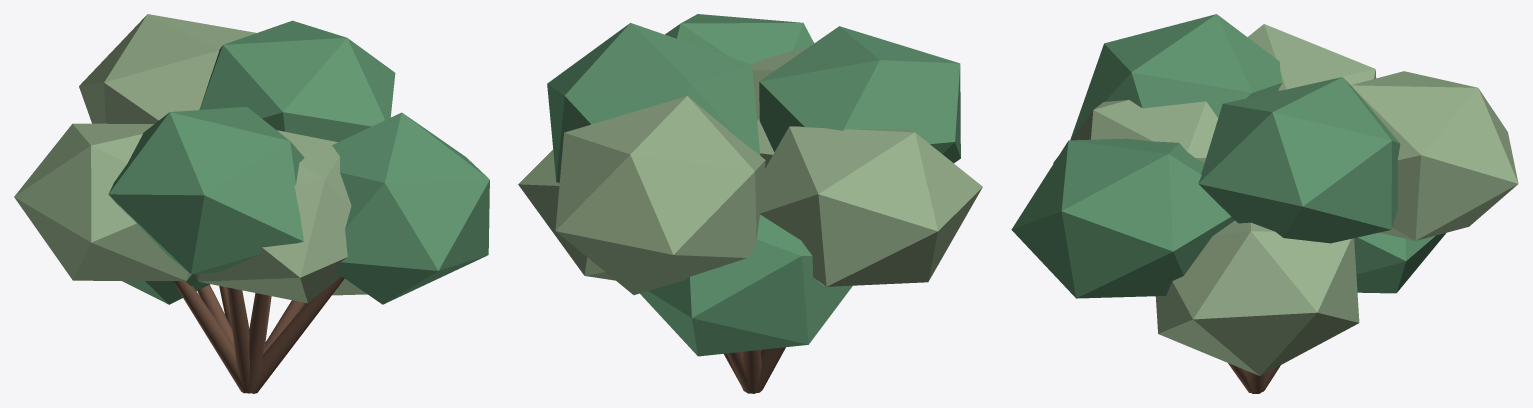
Rendered from berry-bush.glb.
The picture shows the model from 3 angles, left to right: view 1: azimuth 30°, elevation 25°; view 2: azimuth 150°, elevation 25°; view 3: azimuth 270°, elevation 25°; orthographic projection. The views are drawn at different scales.
Parts seen in each view (by area): view 1: Vesper / berry-bush; view 2: Vesper / berry-bush; view 3: Vesper / berry-bush.
Part boxes in pixels (x1,y1,x2,y2): Vesper / berry-bush: [14, 14, 489, 393]; Vesper / berry-bush: [518, 14, 982, 393]; Vesper / berry-bush: [1011, 14, 1518, 393].
Size of the model in its own units: 2.44 by 1.91 by 2.65.
